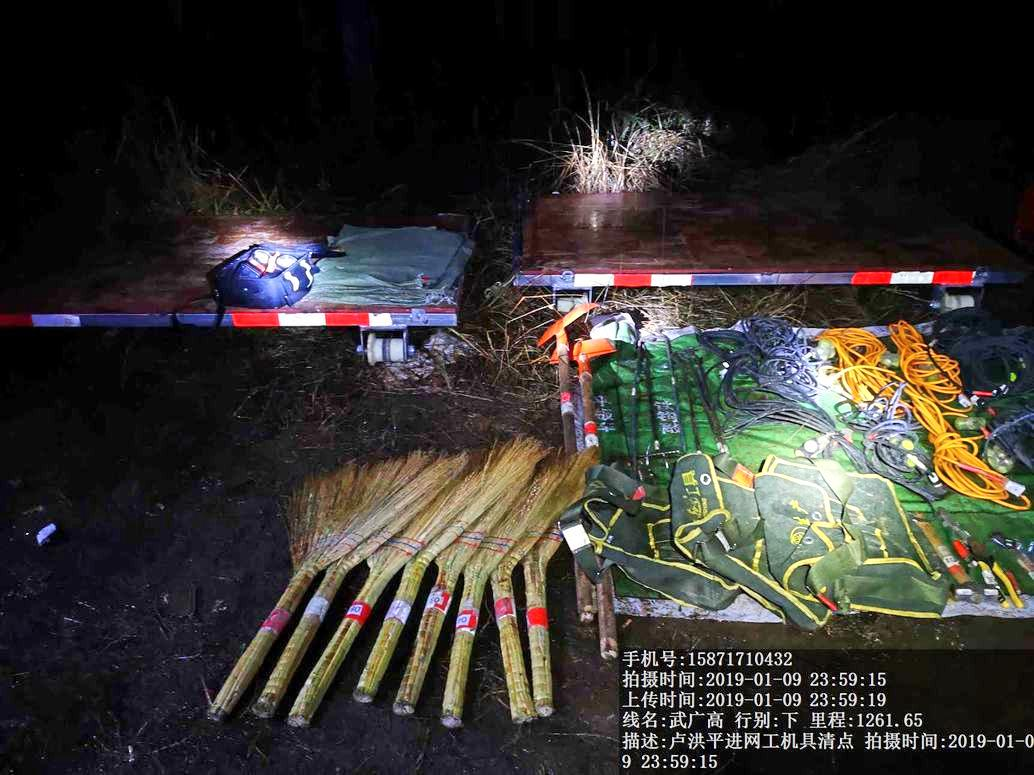BZD: (314, 211, 467, 313)
DX: (914, 393, 1022, 511), (735, 301, 833, 396), (888, 315, 965, 395)
GJB: (754, 454, 956, 617), (666, 459, 770, 595), (580, 463, 675, 595), (209, 228, 321, 316)
SB: (373, 453, 481, 720), (481, 530, 531, 720)
TQ: (535, 301, 618, 454)
